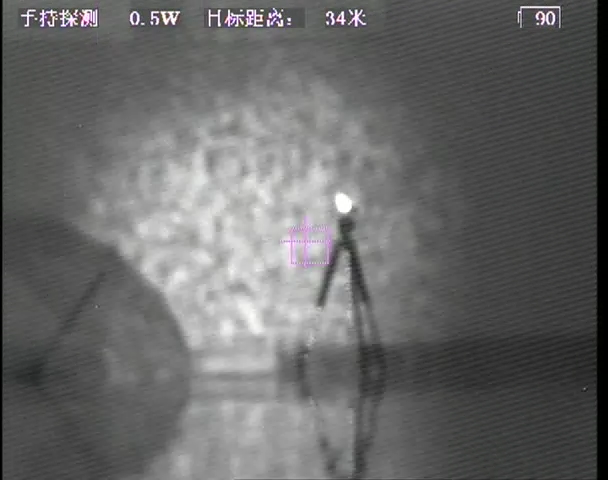my: (331, 193, 353, 214)
